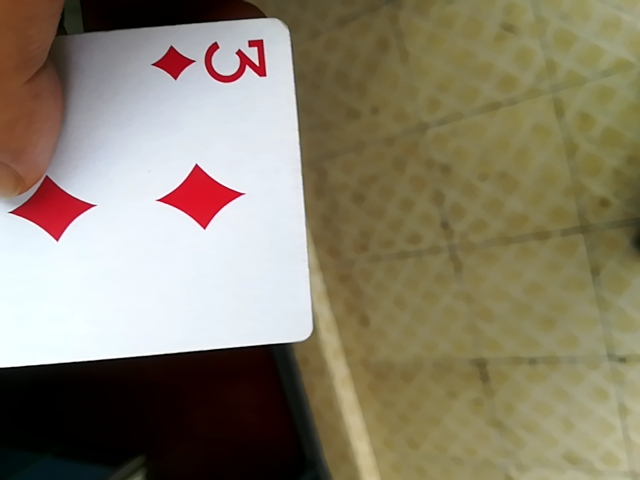fk 3: (1, 19, 314, 390)
